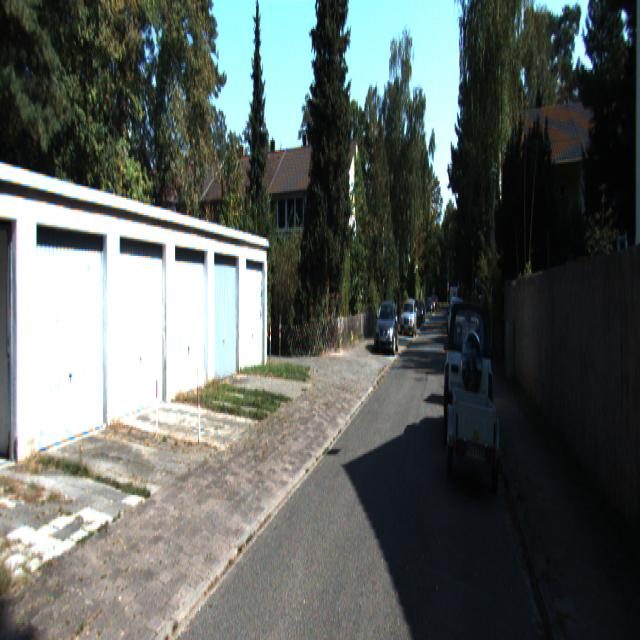Car: (443, 290, 492, 447), (452, 382, 500, 495), (376, 300, 399, 354), (401, 299, 418, 336)
